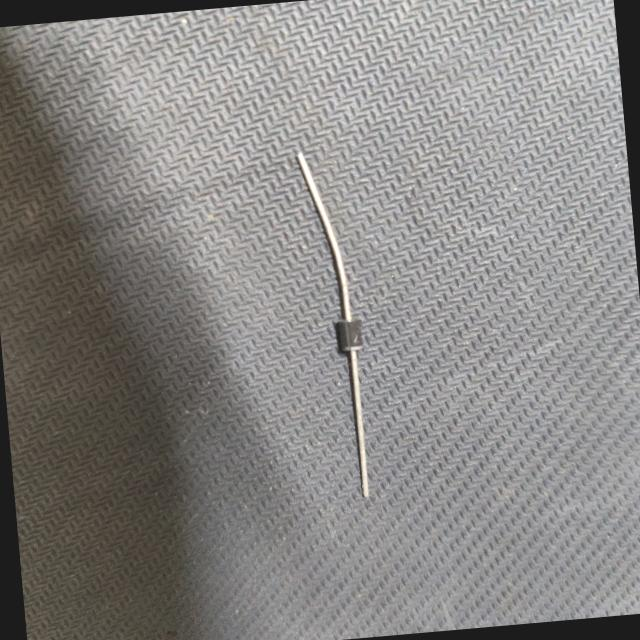resistor: (280, 131, 403, 507)
